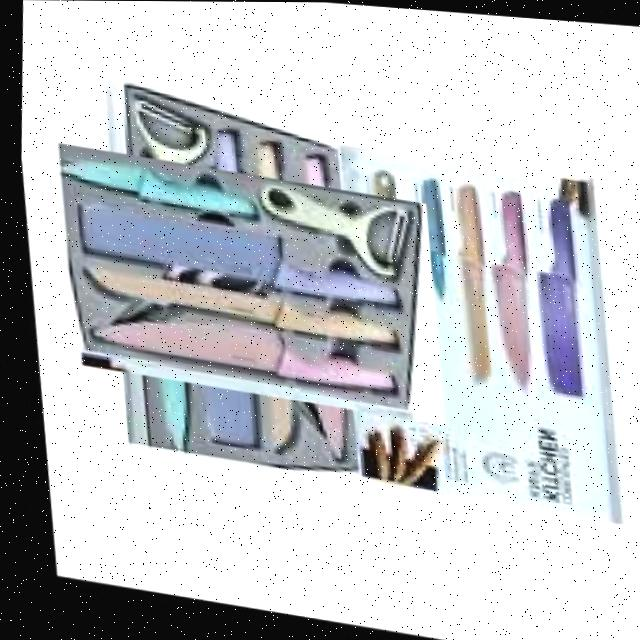knife: (66, 198, 404, 309), (76, 263, 397, 345), (84, 313, 397, 394), (519, 195, 594, 396), (53, 154, 255, 219), (473, 188, 537, 392), (439, 183, 499, 389)
